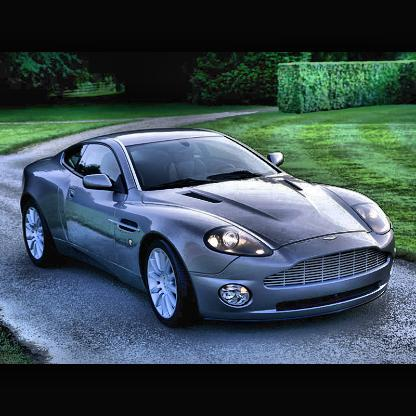Aston Martin V8 Vantage Coupe 2012: (21, 128, 399, 329)
